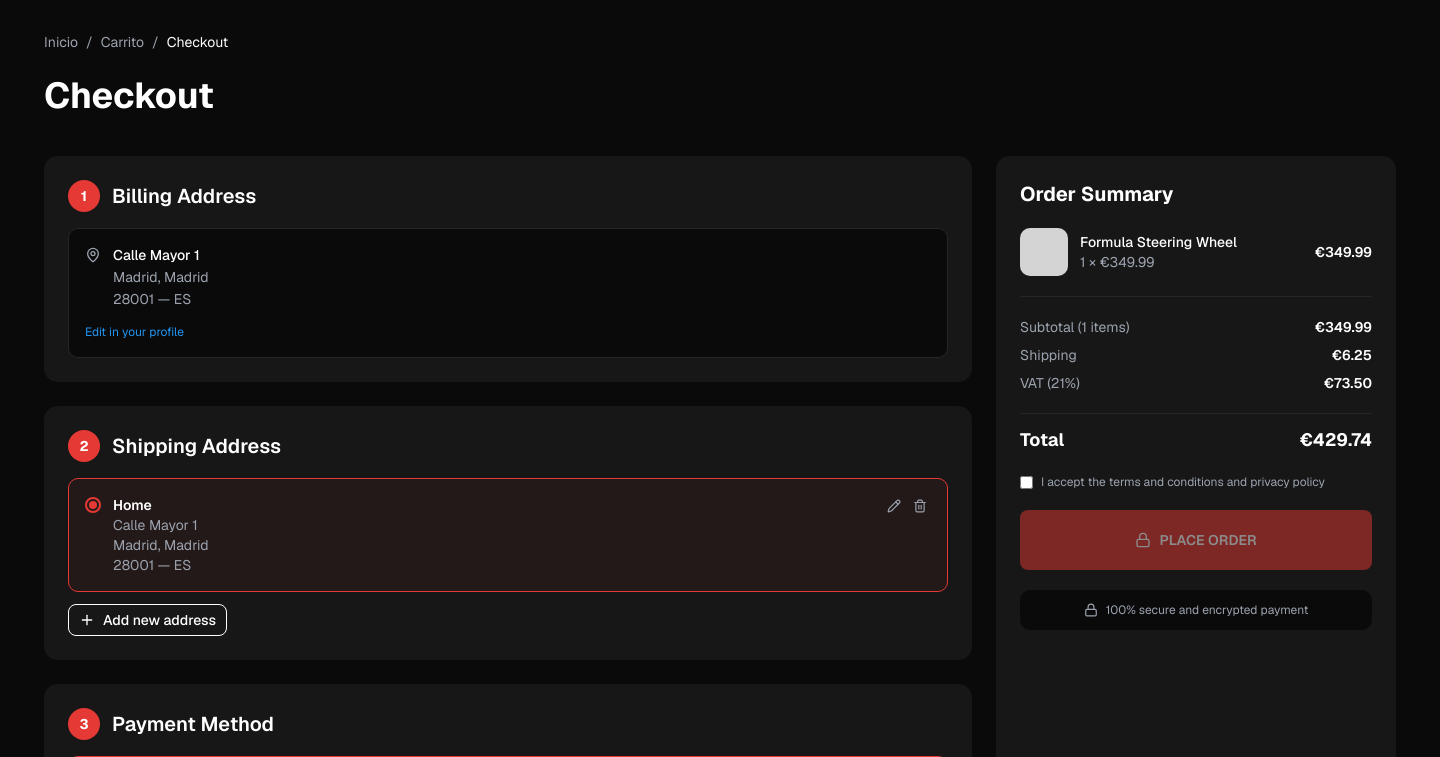
Scenario: CheckoutContent › placing order › shows generic error message when server error has no message
The image size is (1440, 757).
Expected: the button "PLACE ORDER" is shown, [1020,510,1372,570]
Click the checkbox: (1026, 482) [1020,476,1033,489]
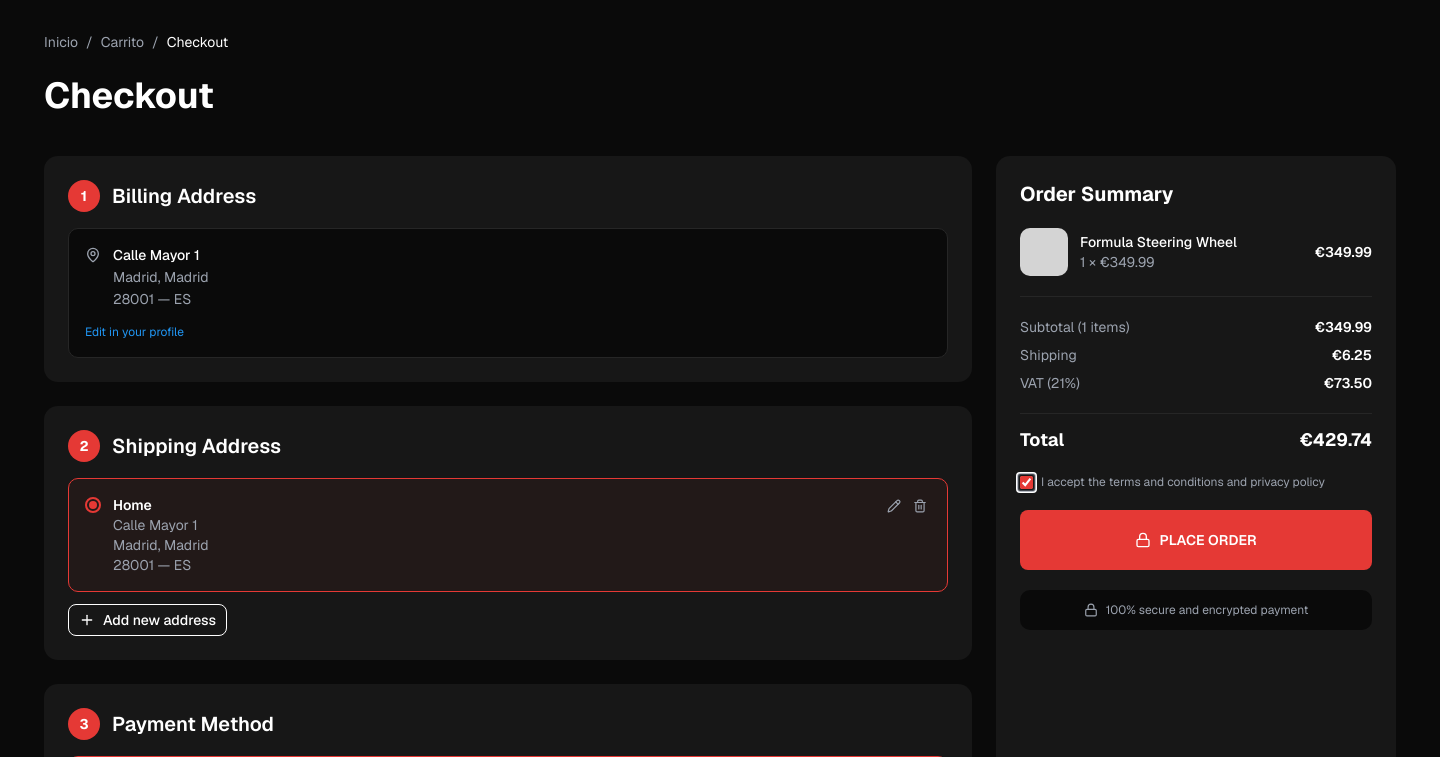
Click the button "PLACE ORDER": (1196, 540) [1020,510,1372,570]
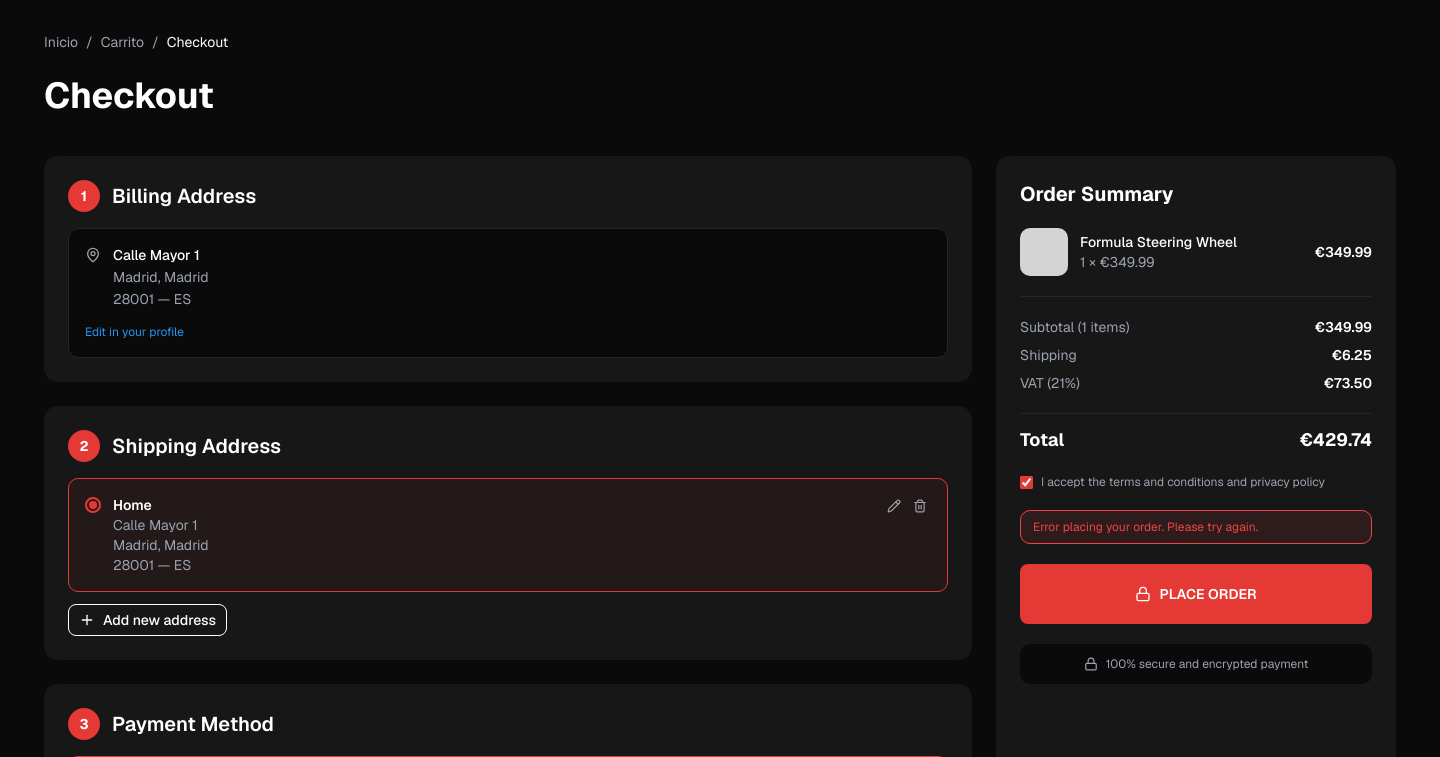
Now the text "Error placing your order. Please try again." is shown, box [1020,510,1372,544]
